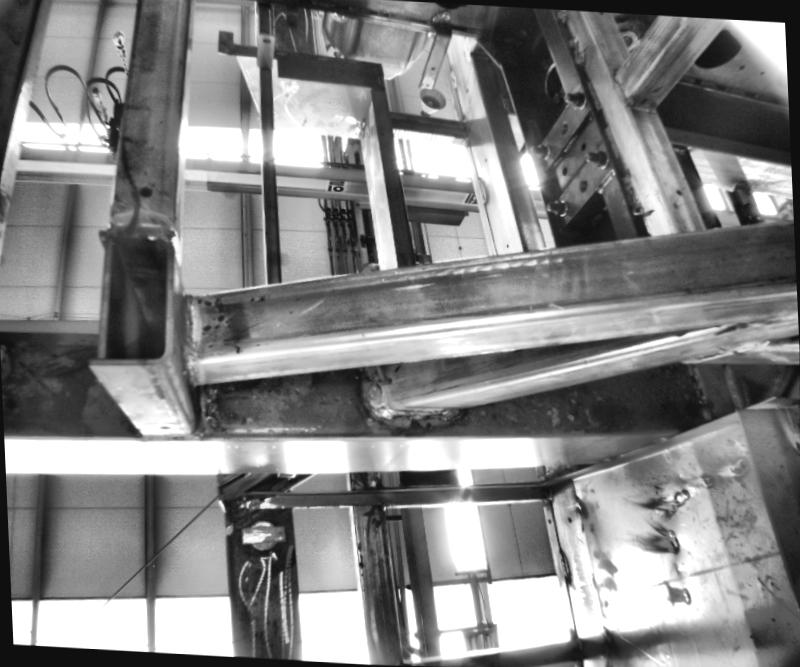bolt: (560, 87, 587, 110), (542, 198, 567, 216), (587, 150, 614, 166), (528, 144, 550, 158)
bracket: (522, 80, 628, 230), (416, 8, 456, 93), (254, 22, 276, 71)
hole: (136, 184, 157, 202), (380, 376, 395, 387), (578, 177, 589, 192), (558, 121, 570, 134), (560, 165, 568, 175), (580, 142, 588, 152), (158, 424, 168, 431), (675, 188, 682, 196), (262, 38, 270, 44), (639, 98, 648, 103), (430, 66, 436, 72), (566, 517, 572, 523), (426, 82, 431, 86), (547, 518, 550, 522), (466, 88, 468, 91), (506, 244, 508, 246)
welding: (370, 403, 458, 422), (181, 295, 203, 360), (364, 363, 392, 414), (556, 548, 570, 580), (626, 101, 656, 114), (447, 68, 459, 90), (430, 12, 452, 22)
